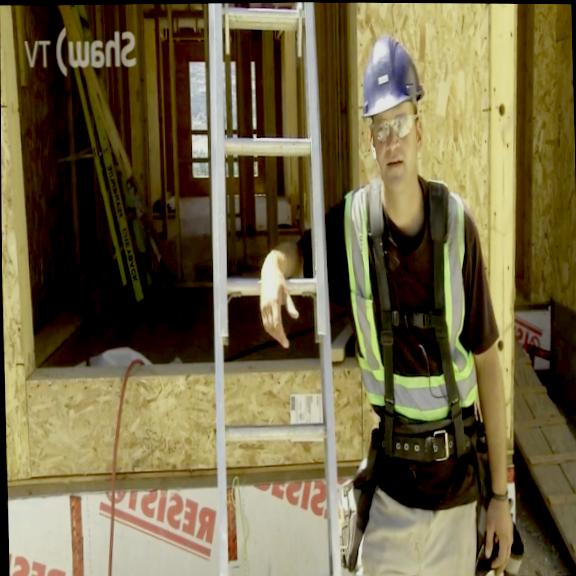safety_vest: (342, 177, 477, 422)
